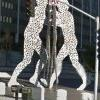Statue: (14, 8, 90, 90)
